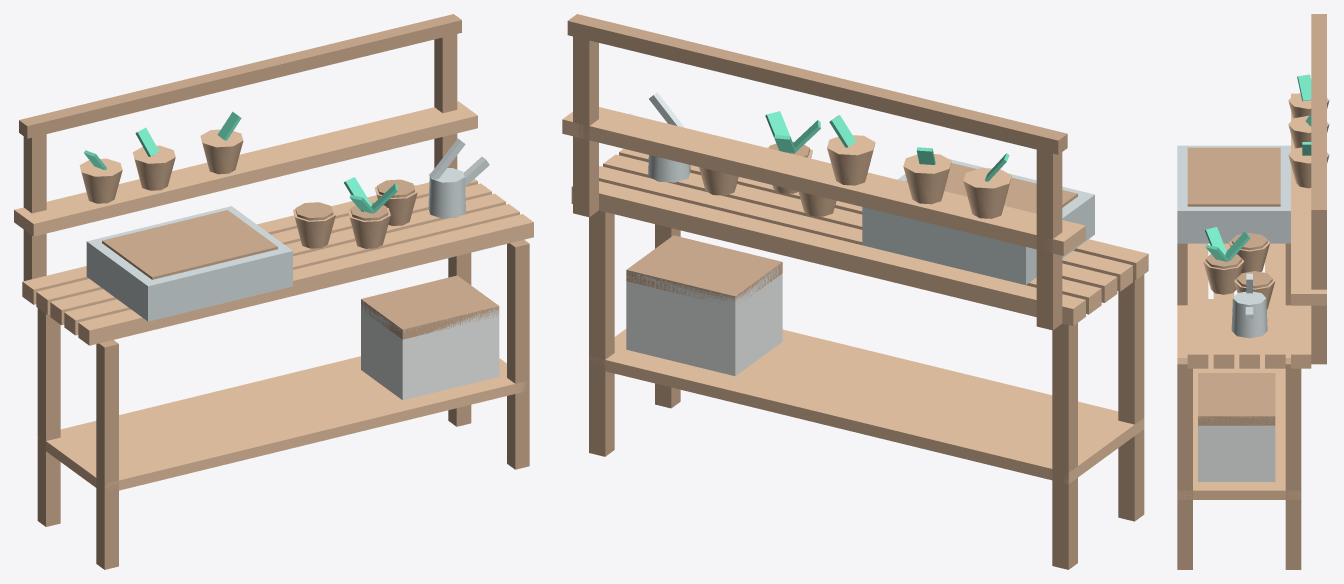
Rendered from pottingBench.glb.
3 views of the same model, side by side, from view 1: azimuth 30°, elevation 25°; view 2: azimuth 150°, elevation 25°; view 3: azimuth 270°, elevation 25° (orthographic). The views are drawn at different scales.
Parts seen in each view (by area): view 1: pottingBench; view 2: pottingBench; view 3: pottingBench.
Part boxes in pixels (box(x1,y1,x2,y2)): pottingBench: box(14, 14, 533, 569); pottingBench: box(562, 14, 1148, 569); pottingBench: box(1177, 14, 1329, 569).
Bounding box in the file's own units: 0.92 × 0.775 × 0.295.
